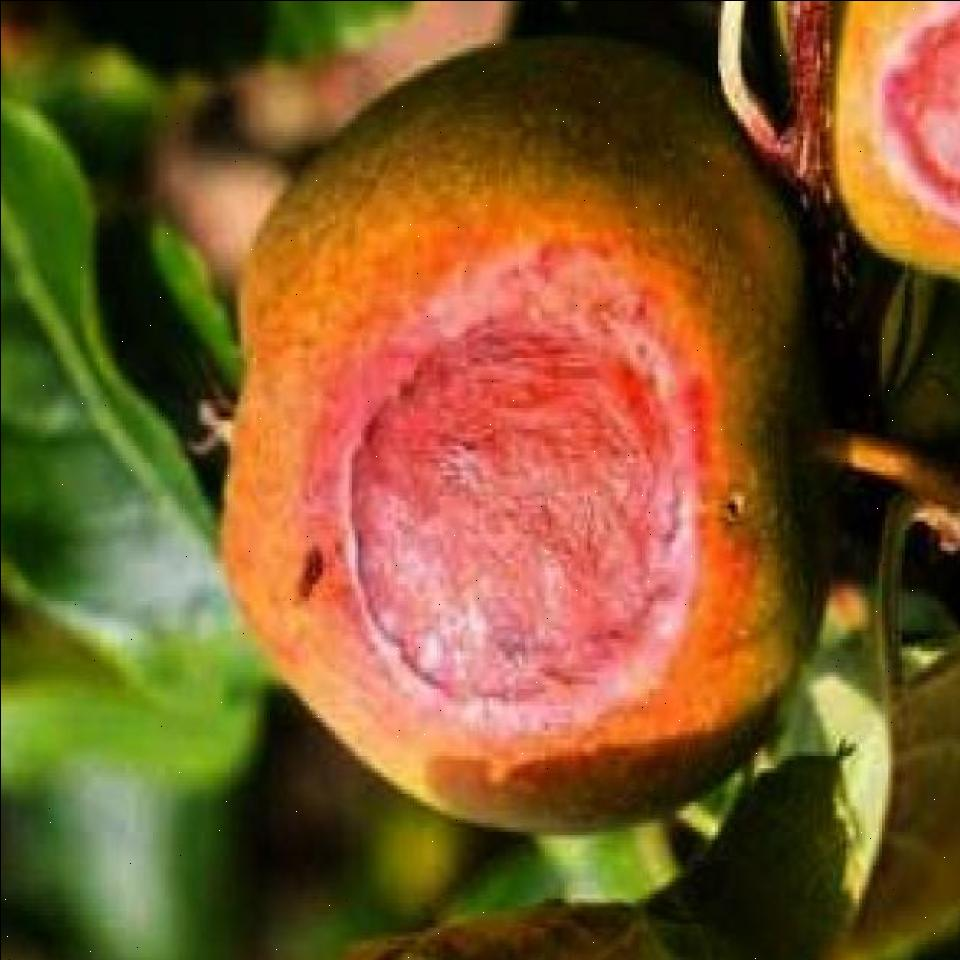Sunscald: (330, 237, 736, 758)
